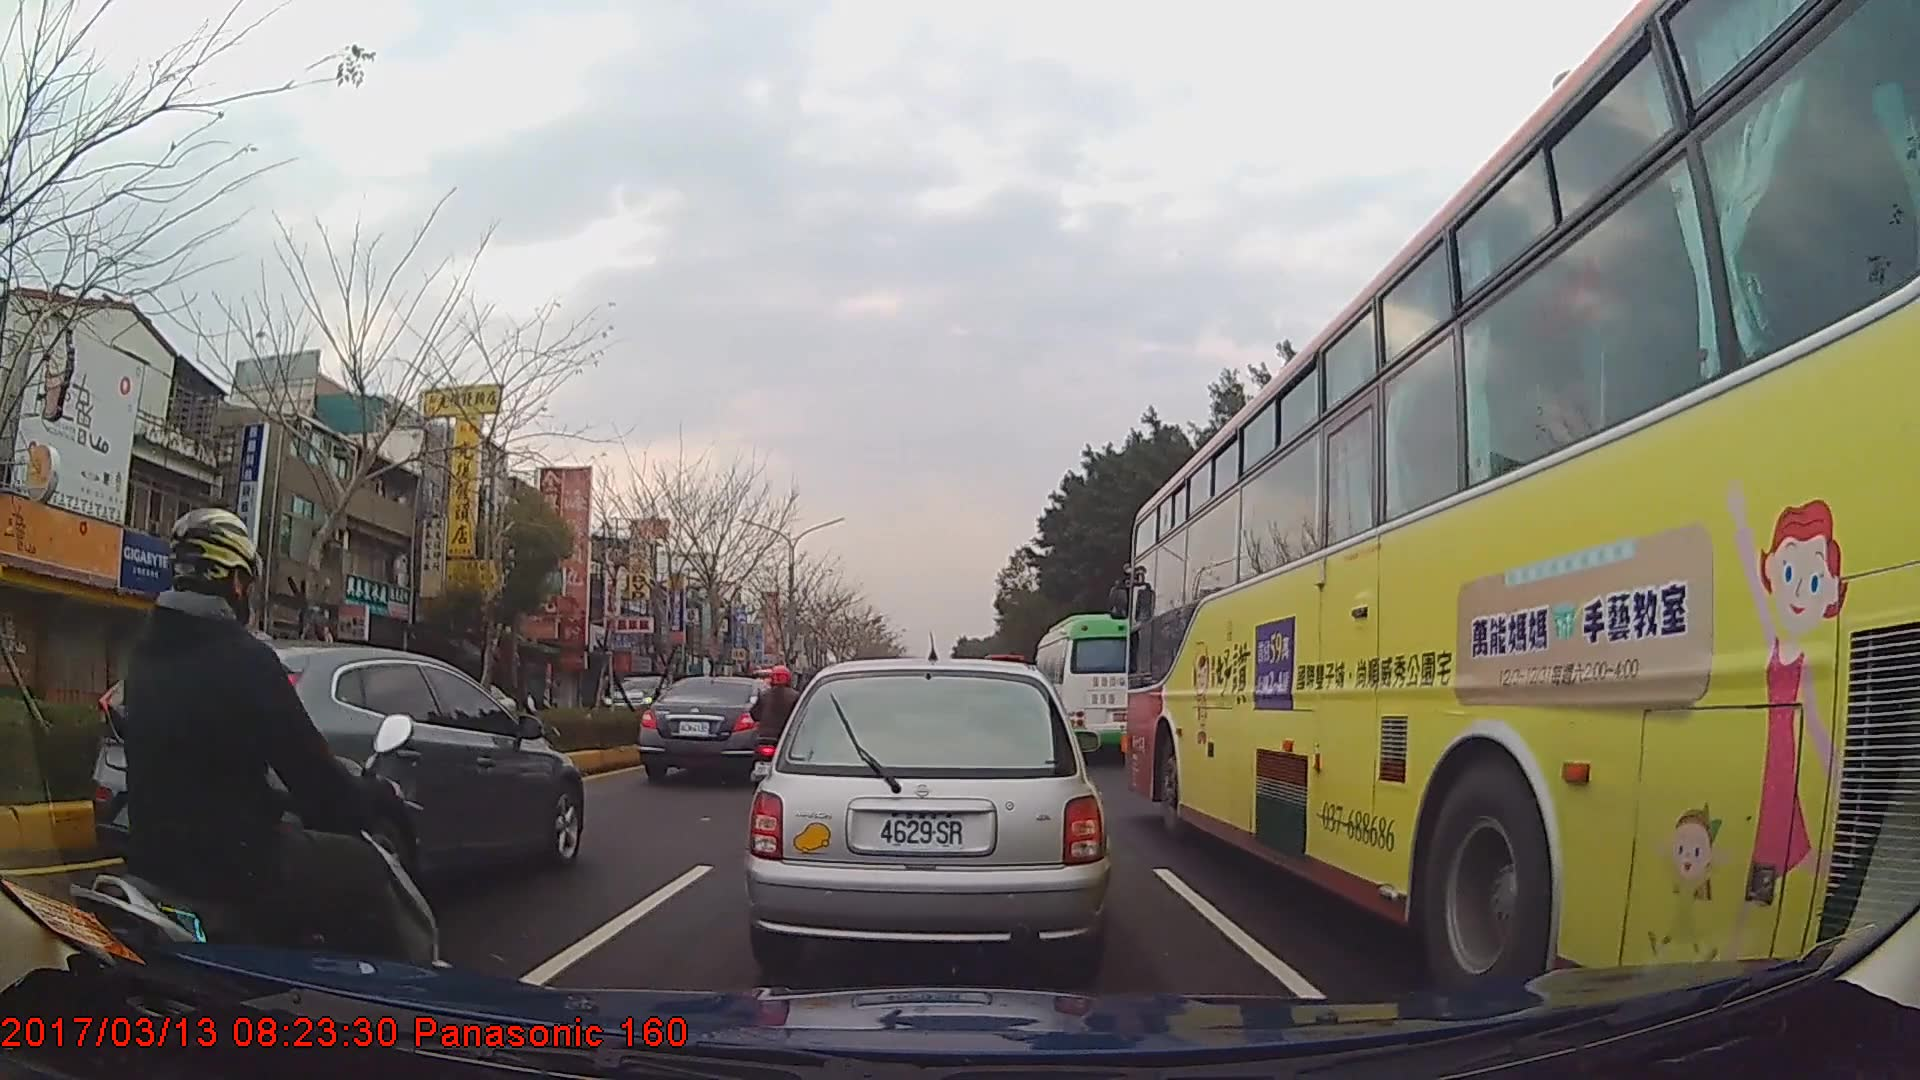rider: (102, 500, 442, 1015), (751, 665, 810, 799)
vehicle: (1125, 0, 1920, 1013), (85, 635, 583, 923), (748, 654, 1110, 976), (639, 673, 795, 786), (1027, 613, 1146, 757)
